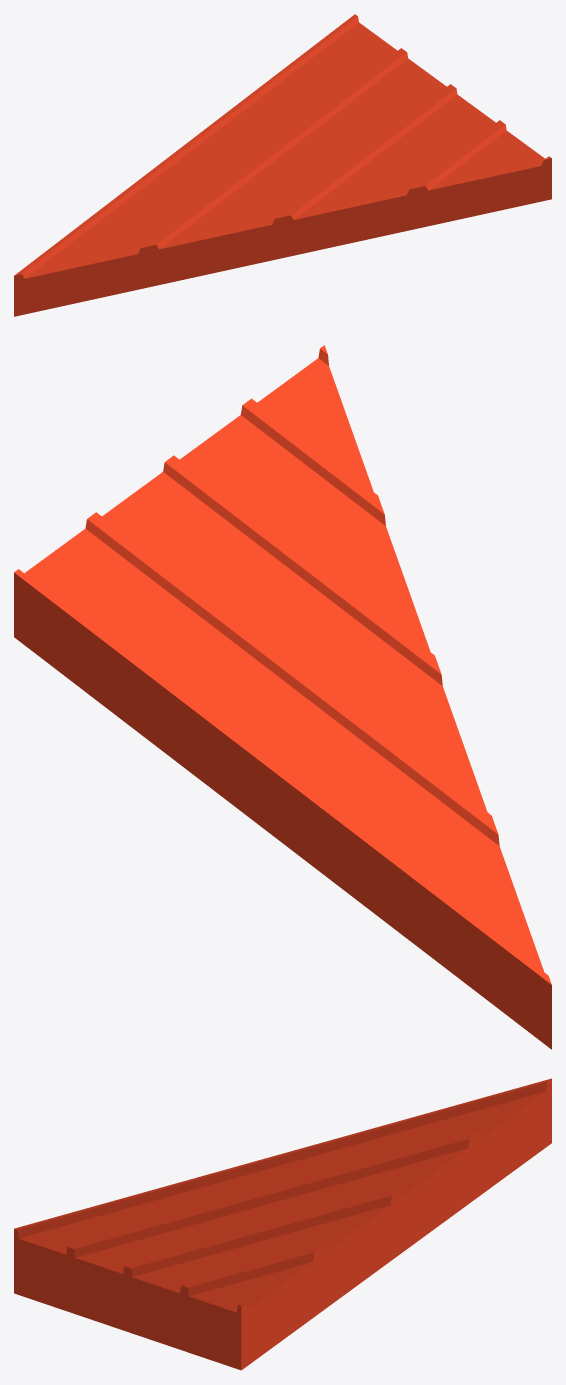
File: roof-metal-moderate-2x2m-diagonal.fbx
3 renders of one model, top to bottom at view 1: azimuth 30°, elevation 25°; view 2: azimuth 150°, elevation 25°; view 3: azimuth 330°, elevation 25°, orthographic. The views are drawn at different scales.
Parts seen in each view (by area): view 1: roof-metal-moderate-2x2m-diagonal; view 2: roof-metal-moderate-2x2m-diagonal; view 3: roof-metal-moderate-2x2m-diagonal.
Part boxes in pixels (x1,y1,x2,y2): roof-metal-moderate-2x2m-diagonal: [14, 14, 551, 316]; roof-metal-moderate-2x2m-diagonal: [14, 345, 551, 1049]; roof-metal-moderate-2x2m-diagonal: [14, 1078, 551, 1370].
Size of the model in its own units: 2 by 1.23 by 2.
